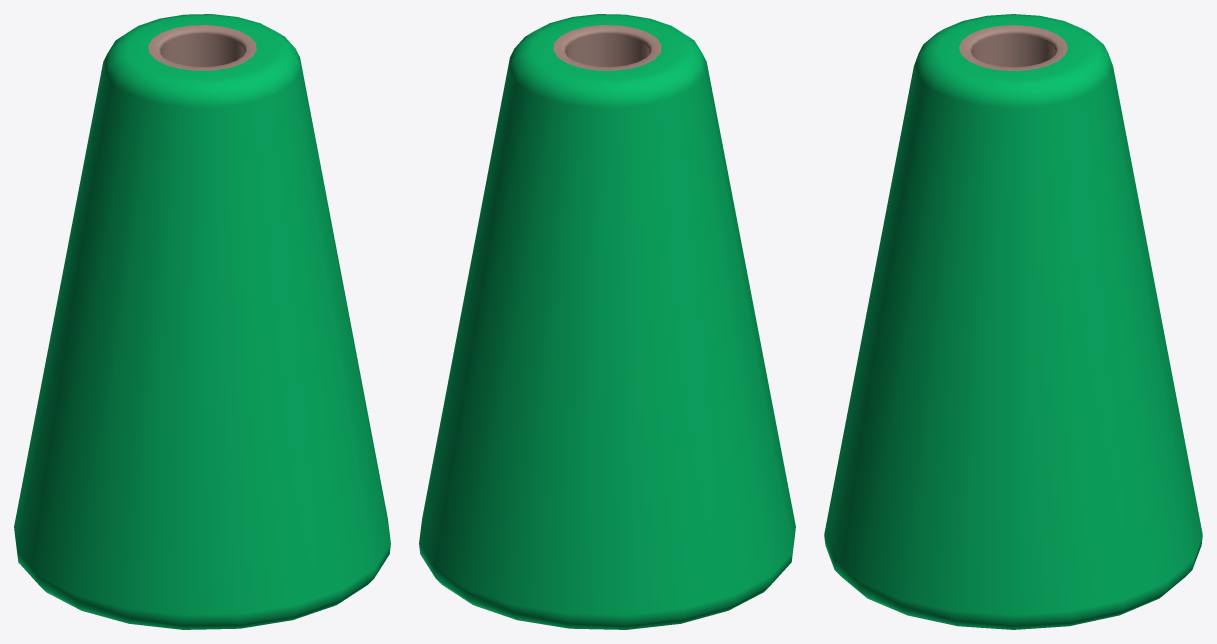
File: Public_19_Skein_of_thread_5.glb
3 views of the same model, side by side, from view 1: azimuth 30°, elevation 25°; view 2: azimuth 150°, elevation 25°; view 3: azimuth 270°, elevation 25° (orthographic).
Visible parts, largest first — view 1: Public_19_Skein_of_thread_5; view 2: Public_19_Skein_of_thread_5; view 3: Public_19_Skein_of_thread_5.
Part boxes in pixels (x1,y1,x2,y2): Public_19_Skein_of_thread_5: (14,14,390,629); Public_19_Skein_of_thread_5: (419,14,795,629); Public_19_Skein_of_thread_5: (824,14,1202,629).
Size of the model in its own units: 0.3044 by 0.4513 by 0.3044.
Materials: 1 (1 with a texture image).
